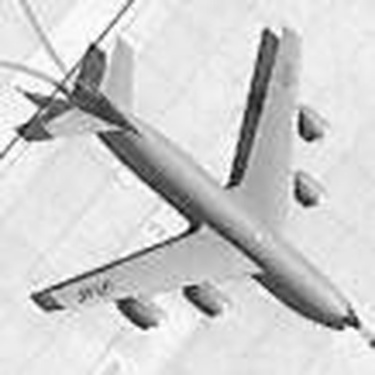airplane: (16, 13, 366, 344)
